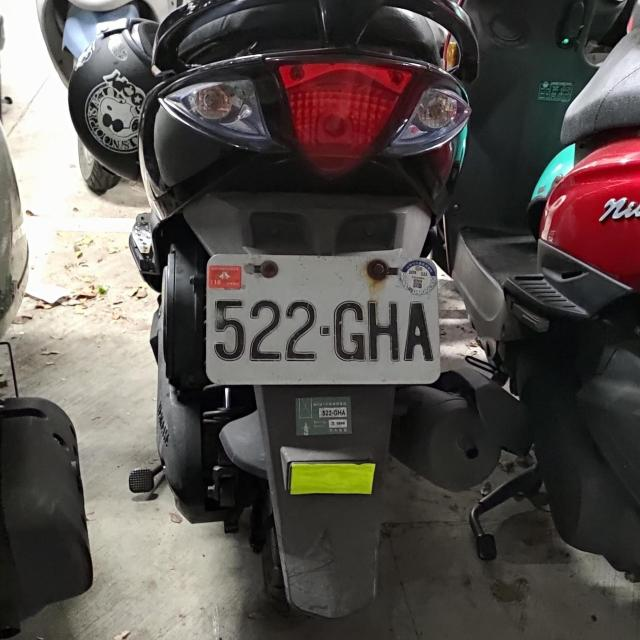W: (197, 246, 441, 384)
